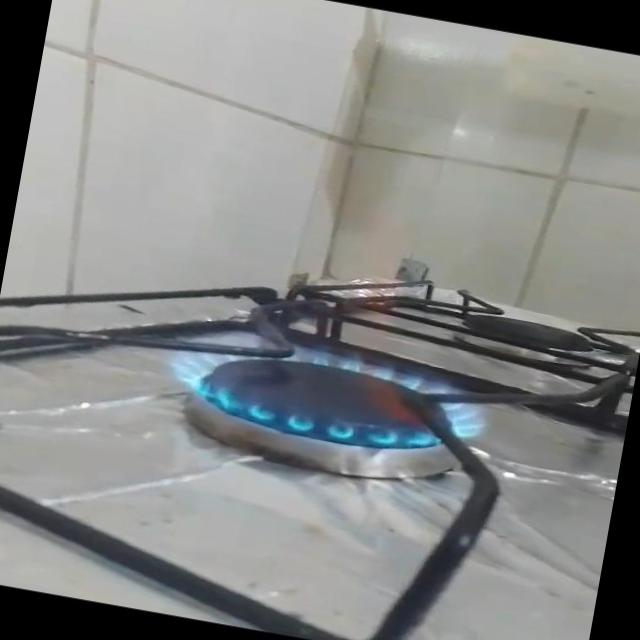Fire: (157, 170, 520, 472)
